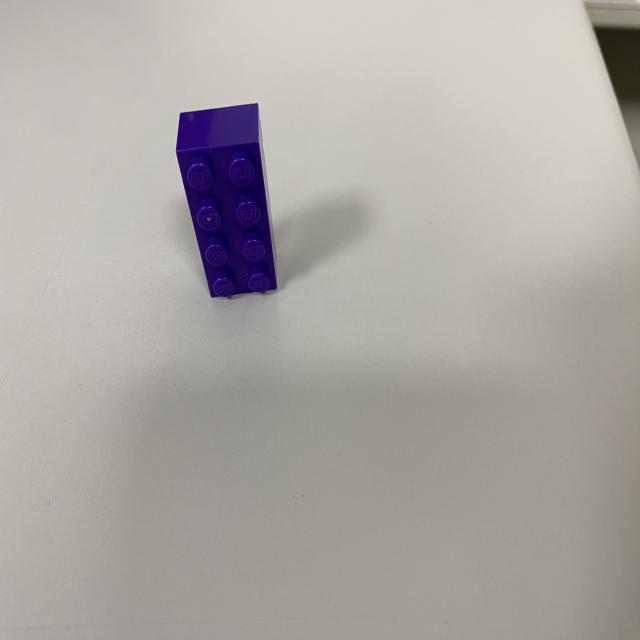C4x2x1: (176, 146, 279, 303), (176, 104, 261, 150)
